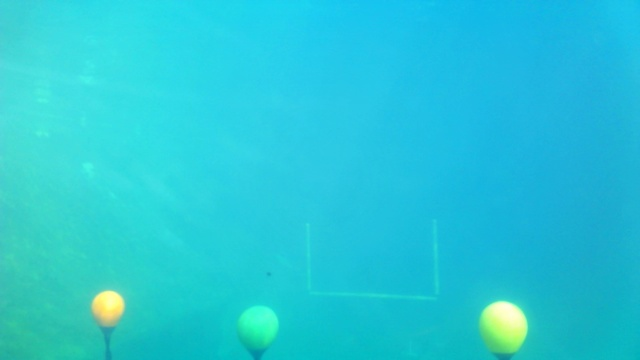buoy_red: (90, 288, 124, 332)
channel: (302, 217, 441, 299)
